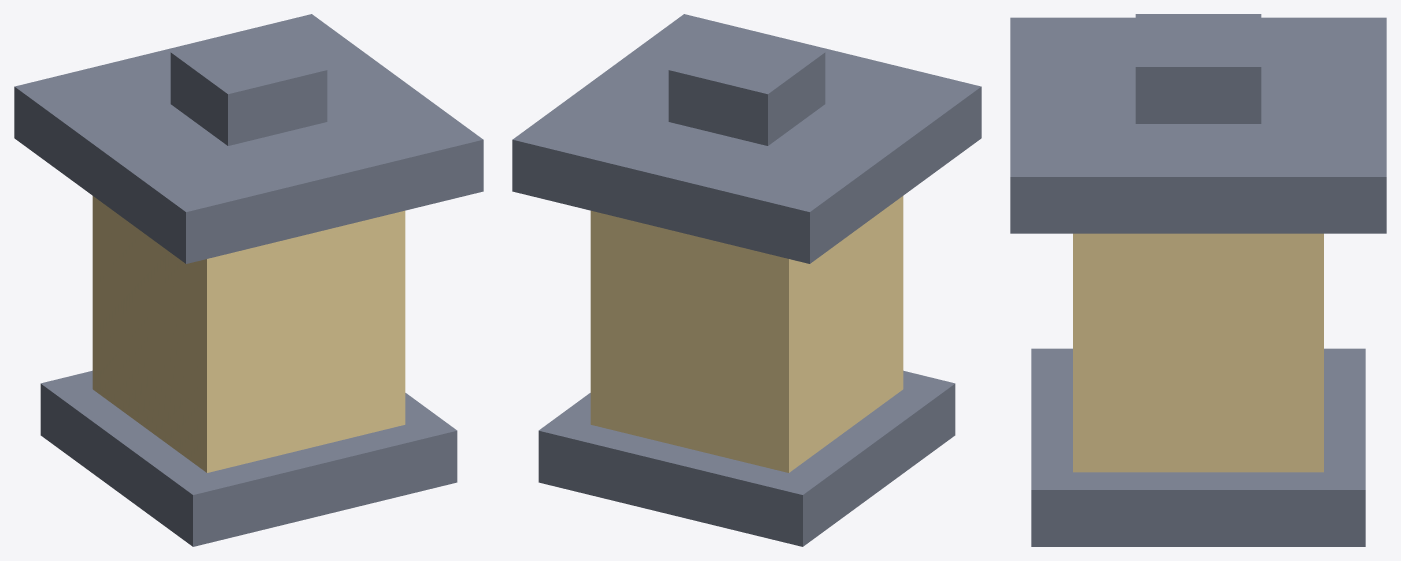
Rendered from choose-starter-ball-2.gltf.
3 views of the same model, side by side, from view 1: azimuth 30°, elevation 25°; view 2: azimuth 150°, elevation 25°; view 3: azimuth 270°, elevation 25° (orthographic). The views are drawn at different scales.
Parts seen in each view (by area): view 1: choose-starter-lantern; view 2: choose-starter-lantern; view 3: choose-starter-lantern.
Boxes of the visible parts, <box> form: choose-starter-lantern: <box>14,14,483,546</box>; choose-starter-lantern: <box>512,14,981,546</box>; choose-starter-lantern: <box>1010,14,1386,546</box>.
Size of the model in its own units: 18 by 23 by 18.
